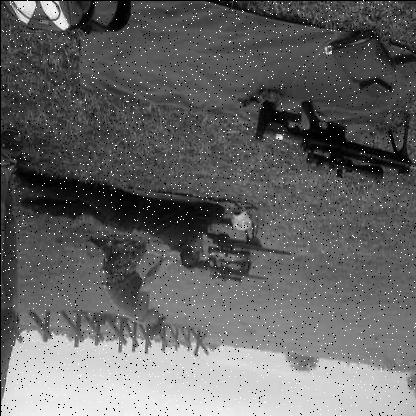rifle: (248, 92, 416, 201), (202, 215, 295, 262)
